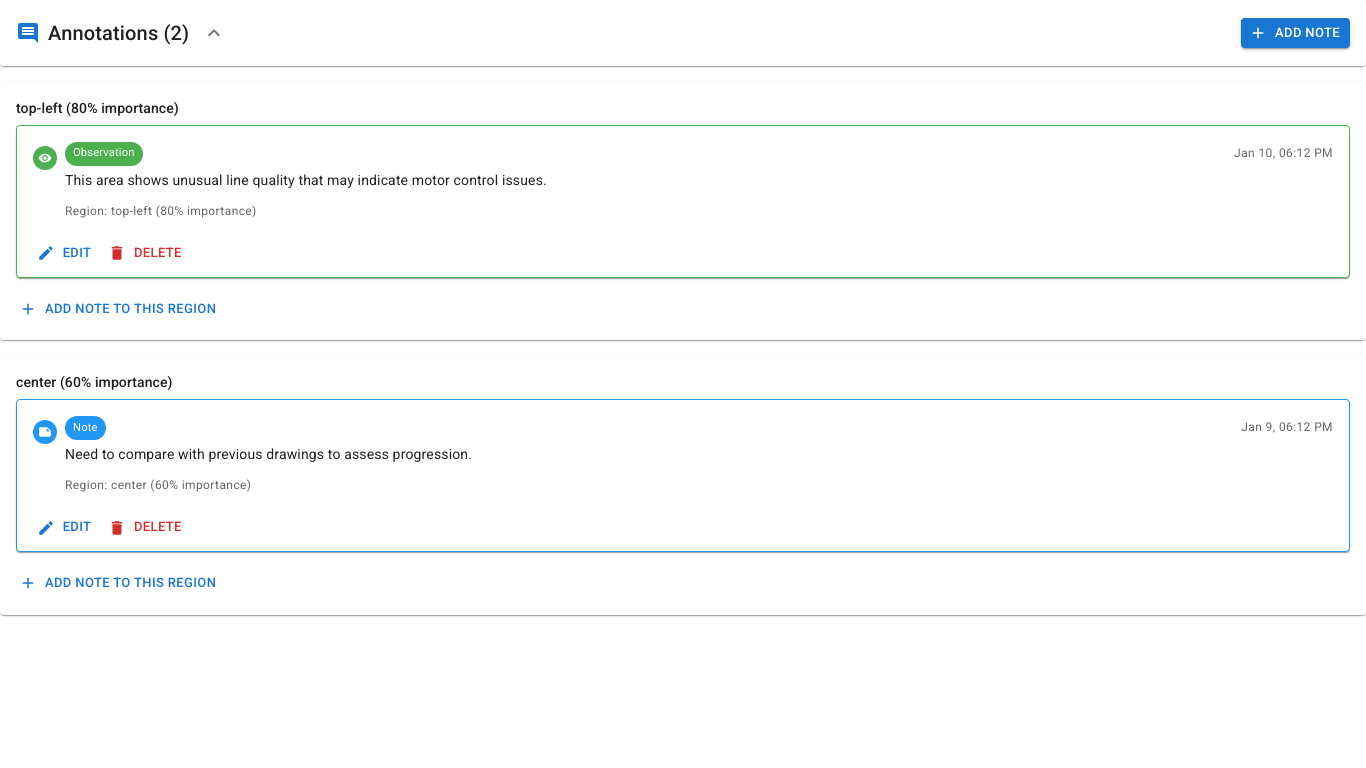
Scenario: Comparative Analysis and Export Features › AnnotationTools › opens annotation dialog when add button is clicked
Click the button "Add Note": (1296, 33) [1241,18,1350,48]
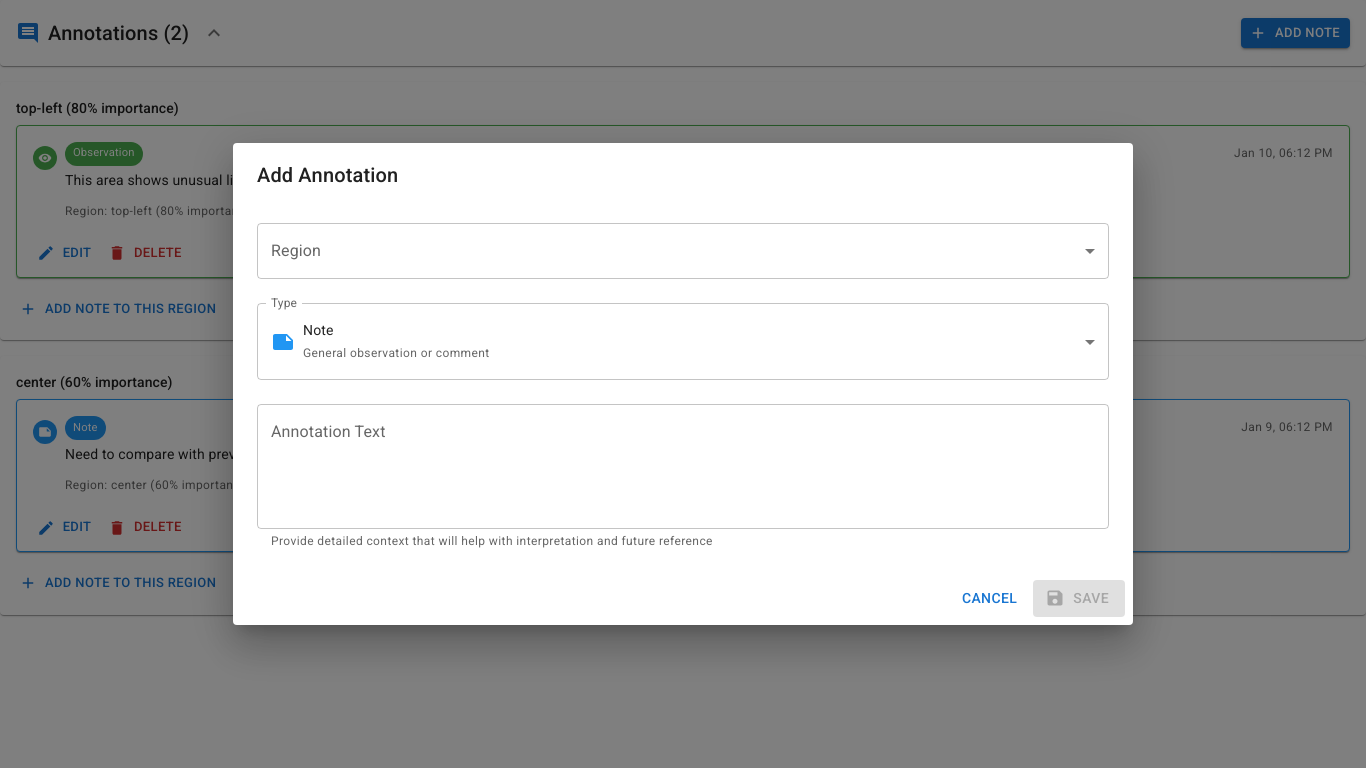
Expected: the heading "Add Annotation" is shown, [257,163,398,187]
Expected: the text box labelled "Annotation Text" is shown, [271,421,1095,513]
Expected: the number of dropdowns is 2, [257,223,1109,279]; [271,322,490,360]
